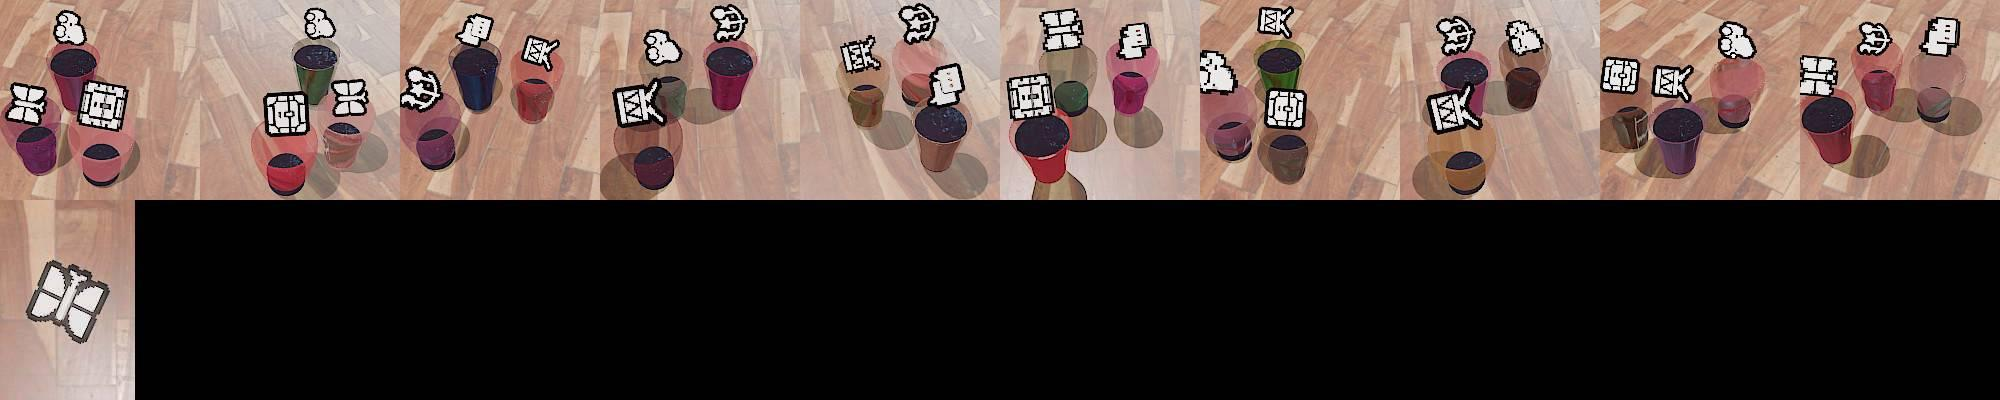icon: (25, 258, 111, 344), (76, 79, 130, 132), (1426, 85, 1482, 135), (613, 80, 668, 129), (1006, 72, 1054, 120), (263, 91, 311, 137), (400, 65, 443, 112), (4, 81, 48, 126), (1039, 7, 1082, 52), (1265, 87, 1308, 130), (840, 33, 882, 75), (1435, 16, 1475, 60), (928, 62, 965, 109), (1798, 55, 1839, 97), (1199, 49, 1236, 95), (1920, 16, 1961, 57), (1650, 64, 1693, 103), (898, 3, 938, 44), (1717, 20, 1757, 61), (330, 76, 370, 117), (709, 3, 748, 43), (1600, 57, 1639, 97), (645, 27, 683, 68), (1504, 18, 1545, 56), (520, 34, 561, 71), (456, 12, 494, 48), (1117, 20, 1151, 60), (53, 9, 89, 46), (1857, 21, 1893, 57), (1257, 5, 1294, 37), (303, 7, 337, 41)
